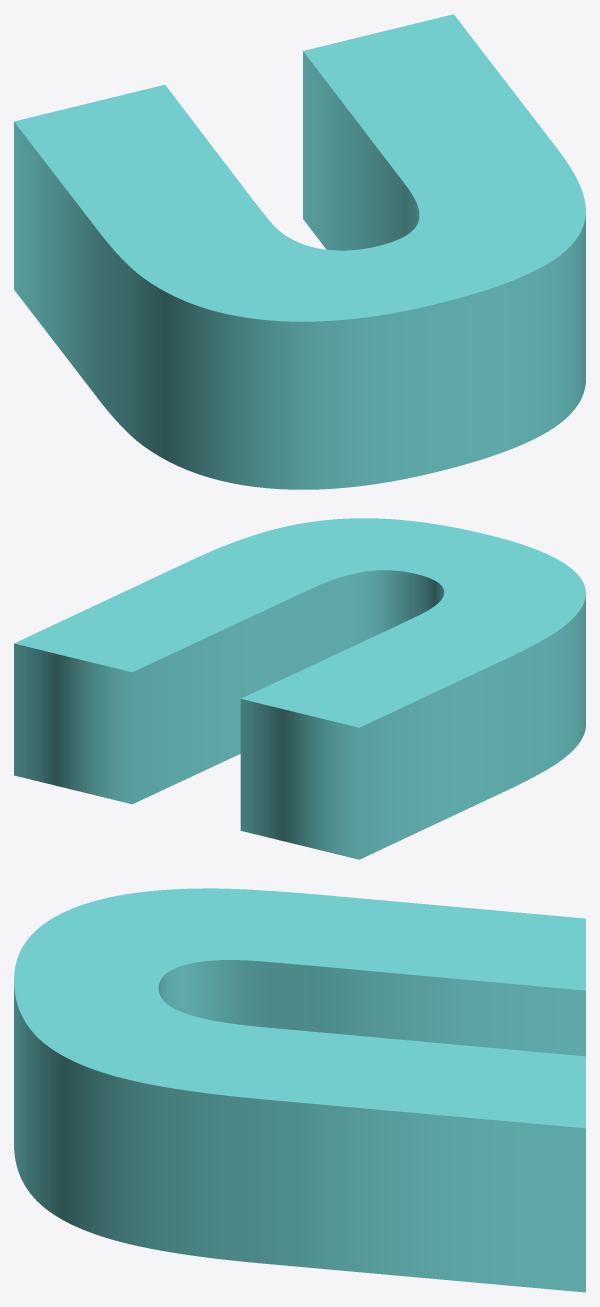
3 views of the same model, one above another, from view 1: azimuth 30°, elevation 25°; view 2: azimuth 150°, elevation 25°; view 3: azimuth 270°, elevation 25° (orthographic). The views are drawn at different scales.
Visible parts, largest first — view 1: U; view 2: U; view 3: U.
Part boxes in pixels (left/top/right/bottom): U: left=14, top=14, right=585, bottom=489; U: left=14, top=518, right=585, bottom=859; U: left=14, top=888, right=585, bottom=1292.
Size of the model in its own units: 50.12 by 16 by 50.5.
